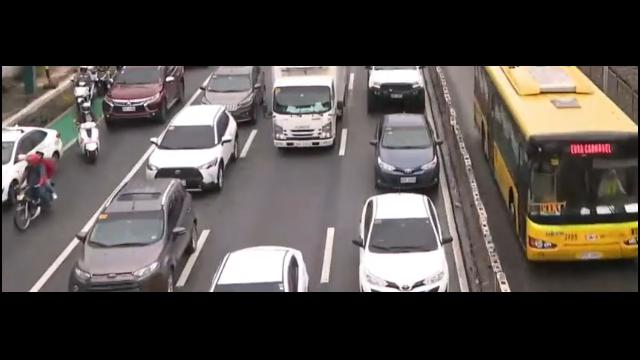bus: (469, 65, 638, 272)
car: (67, 178, 197, 290), (352, 195, 453, 292), (142, 103, 240, 196), (368, 111, 446, 192), (0, 122, 60, 209), (203, 244, 310, 292), (103, 66, 183, 120), (200, 65, 266, 121), (365, 67, 428, 110)
motorcycle: (12, 152, 55, 229), (74, 100, 102, 164), (72, 66, 94, 114), (92, 66, 114, 96)
truck: (266, 66, 354, 153)
